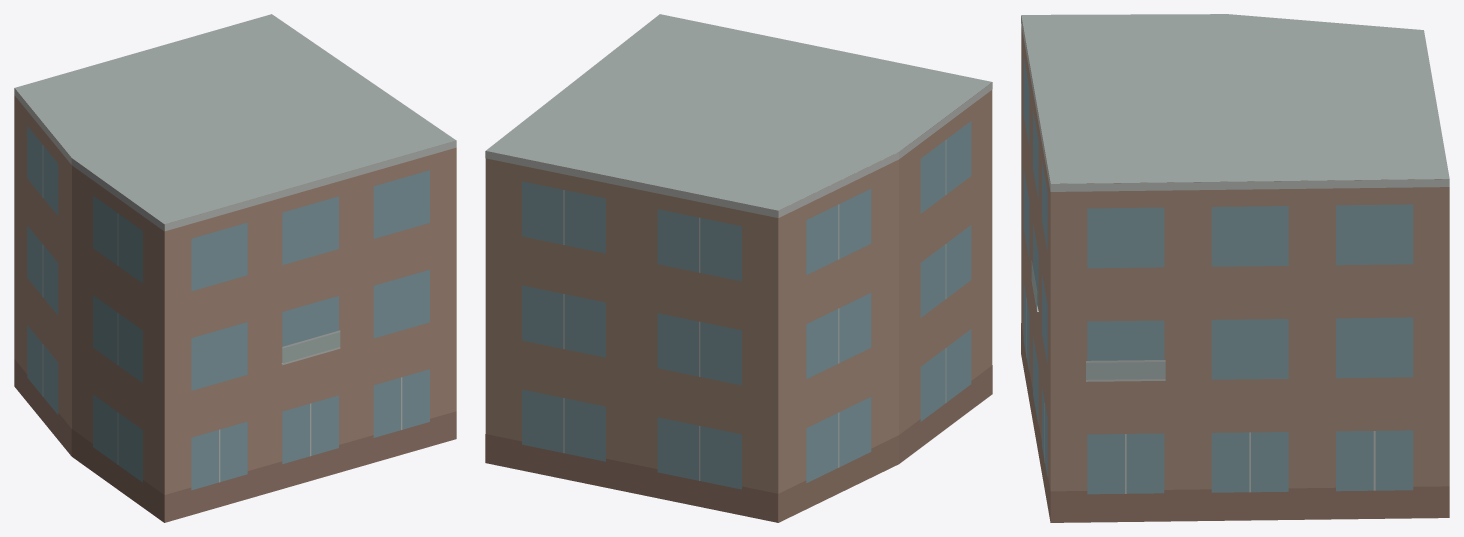
The model's file is survey-upis-32764528.glb.
3 renders of one model, left to right at view 1: azimuth 30°, elevation 25°; view 2: azimuth 150°, elevation 25°; view 3: azimuth 270°, elevation 25°, orthographic. The views are drawn at different scales.
Parts seen in each view (by area): view 1: survey-upis-32764528.tmp; view 2: survey-upis-32764528.tmp; view 3: survey-upis-32764528.tmp.
Part boxes in pixels (x1,y1,x2,y2): survey-upis-32764528.tmp: [14, 14, 456, 522]; survey-upis-32764528.tmp: [485, 14, 992, 522]; survey-upis-32764528.tmp: [1021, 14, 1449, 522].
Bounding box in the file's own units: 10.98 × 10.2 × 11.7.
